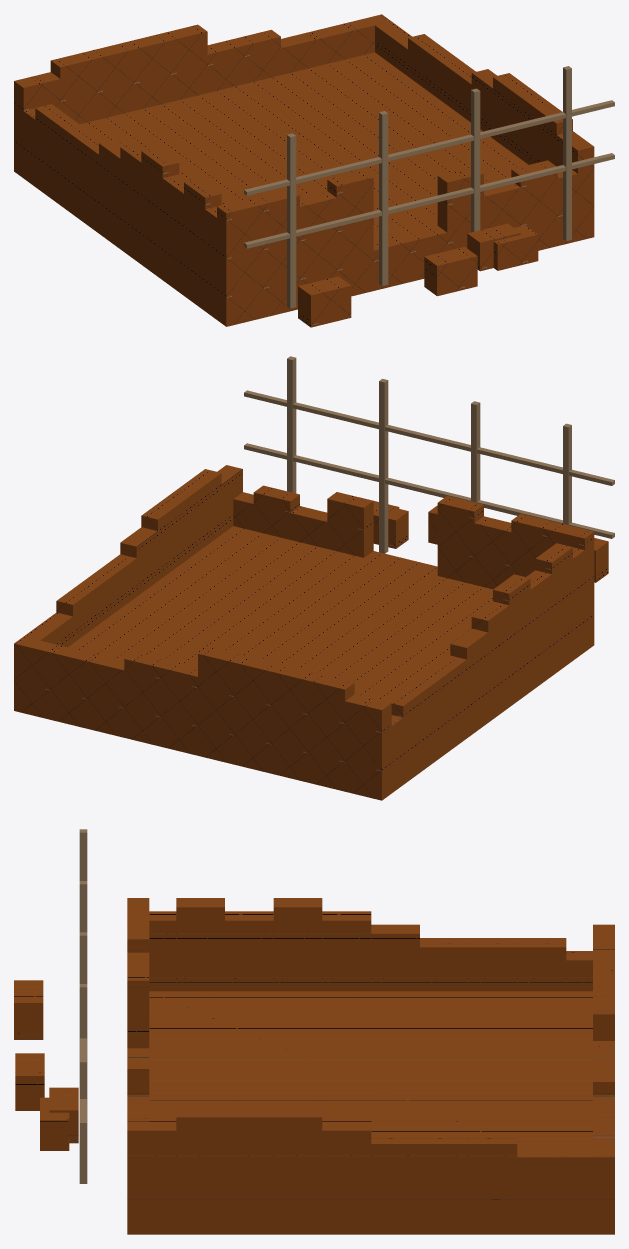
The model's file is uruk_site_c.glb.
3 views of the same model, one above another, from view 1: azimuth 30°, elevation 25°; view 2: azimuth 150°, elevation 25°; view 3: azimuth 270°, elevation 25° (orthographic). The views are drawn at different scales.
Parts seen in each view (by area): view 1: uruk_site_c; view 2: uruk_site_c; view 3: uruk_site_c.
Boxes of the visible parts, <box> form: uruk_site_c: <box>14,14,614,327</box>; uruk_site_c: <box>14,356,614,800</box>; uruk_site_c: <box>14,829,614,1234</box>.
Bounding box in the file's own units: 10 × 5.05 × 12.33.
2 materials, 1 textured.
